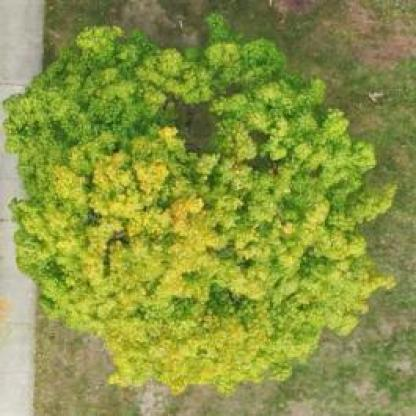Deciduous Tree: (0, 26, 392, 388)
